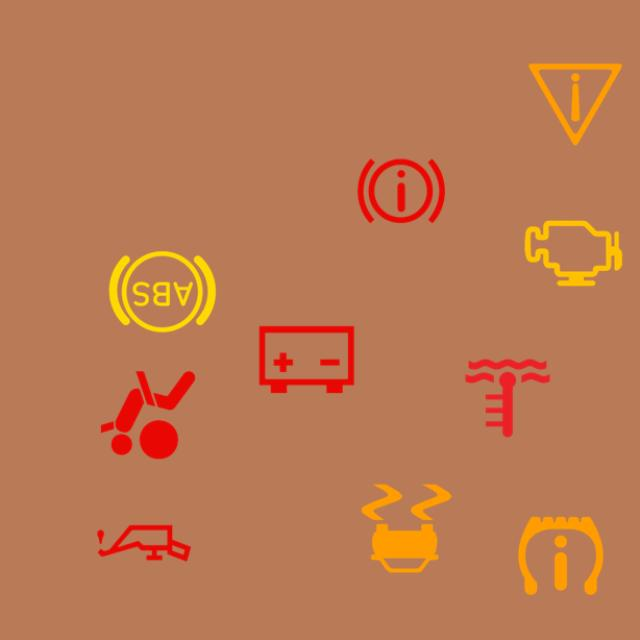Anti Lock Braking System: (104, 234, 221, 350)
Braking System Issue: (343, 132, 460, 249)
Charging System Issue: (248, 301, 365, 418)
Check Engine: (515, 195, 632, 312)
Electronic Stability Problem -ESP-: (348, 470, 465, 587)
Engine Overheating Warning Light: (449, 340, 566, 456)
Low Engine Oil Warning Light: (86, 485, 202, 601)
Low Tire Pressure Warning Light: (503, 497, 619, 614)
Master warning light: (517, 46, 634, 162)
SRS-Airbag: (90, 357, 206, 473)
